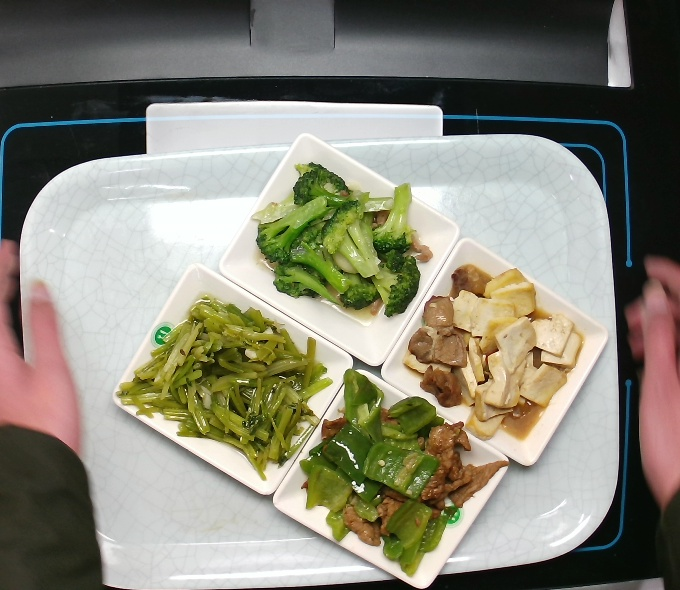wcq-DouFuRouPian: (394, 257, 594, 435)
wcq-QinCai: (108, 297, 336, 474)
wcq-QingJiaoChaoRou: (295, 370, 497, 581)
wcq-XiLanHua: (260, 155, 432, 309)
